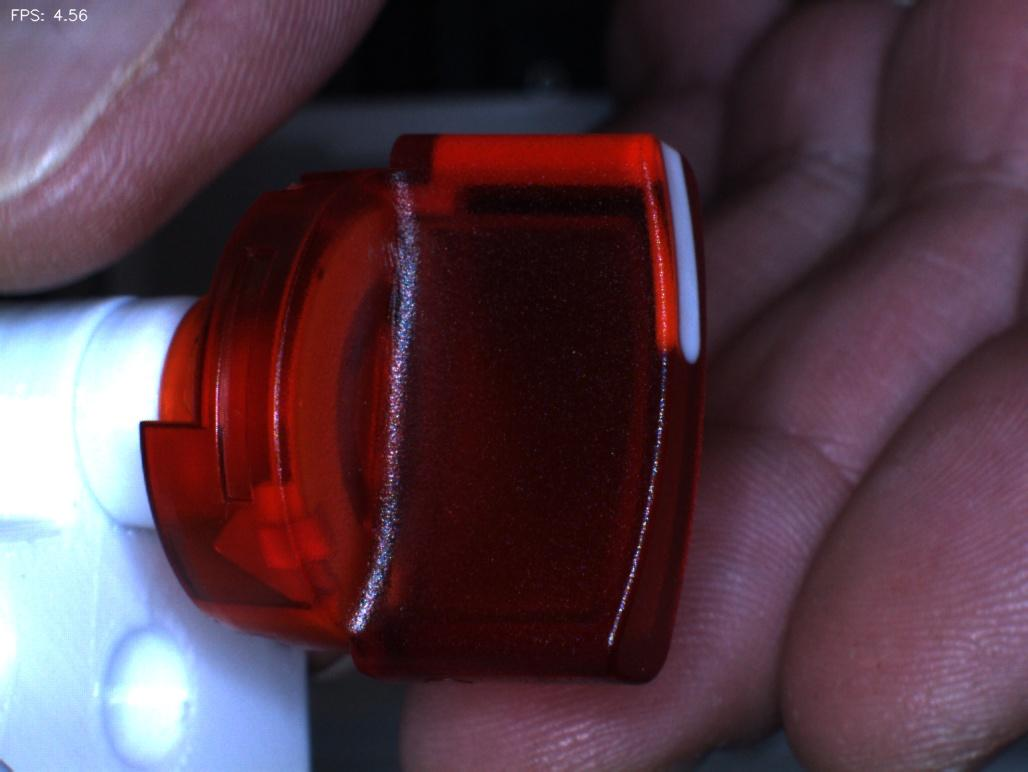Givrage: (361, 219, 429, 336)
